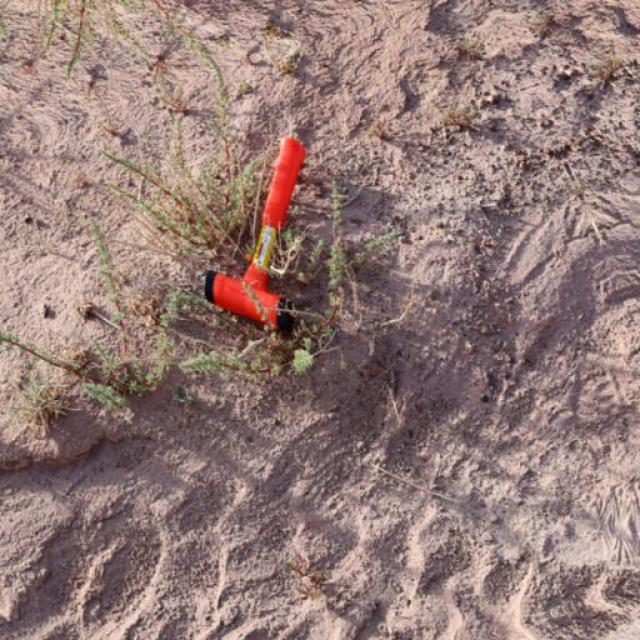mallet: (202, 132, 306, 332)
